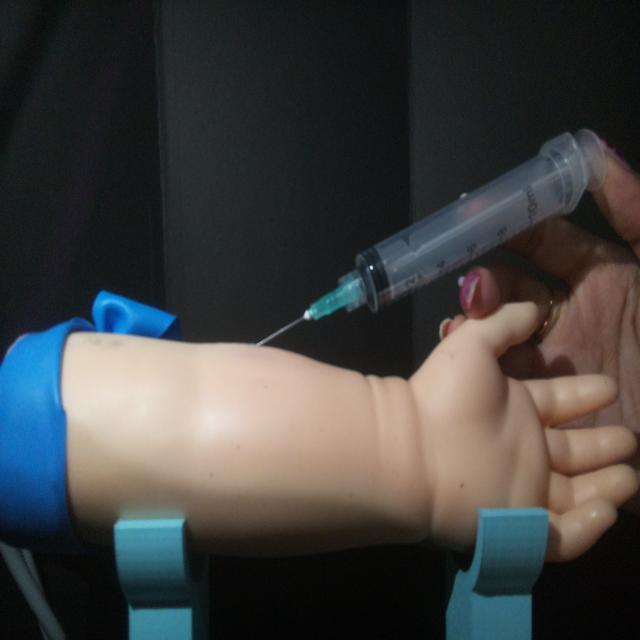28deg: (250, 122, 611, 350)
